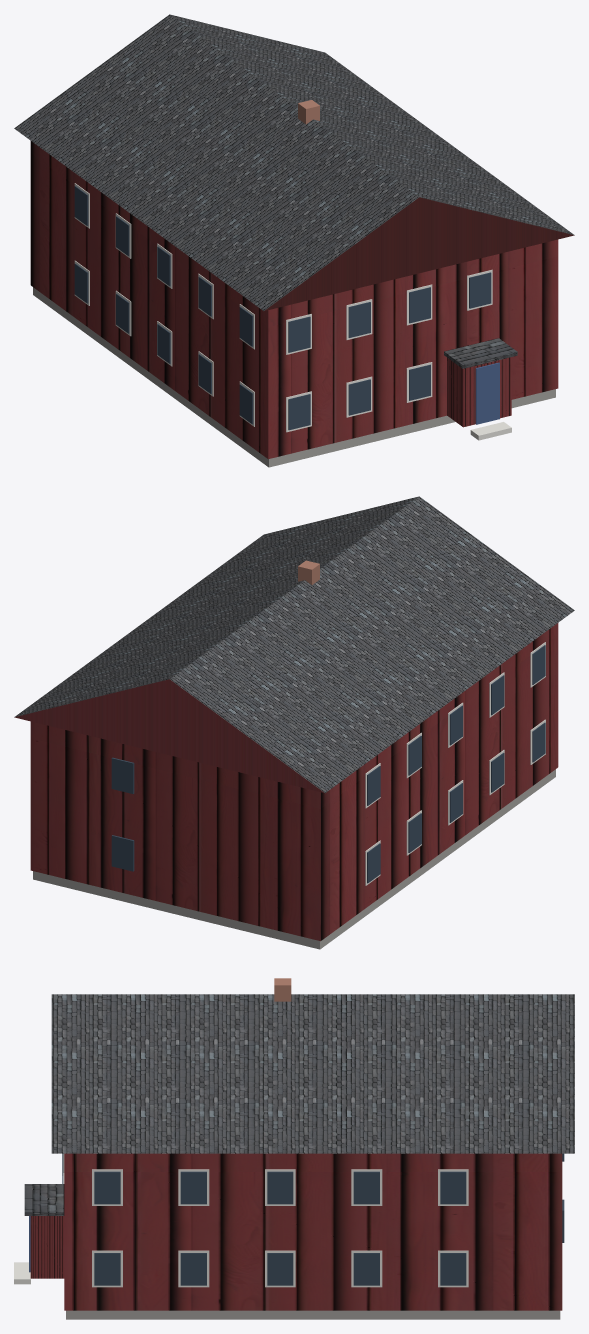
File: asset.glb
3 renders of one model, top to bottom at view 1: azimuth 30°, elevation 25°; view 2: azimuth 150°, elevation 25°; view 3: azimuth 270°, elevation 25°, orthographic. The views are drawn at different scales.
Visible parts, largest first — view 1: roof, body, gable_end, foundation, porch, door, porch_cap, win.014, win.017, win, win.015, win.001 (+2 smaller); view 2: roof, body, gable_end, foundation, win.028, win.013; view 3: roof, body, foundation, porch, porch_cap, win.023, win.024, win.025, win.026, win.027, win.008, win.009 (+3 smaller).
Part boxes in pixels (x1=…): roof: x1=14, y1=14, x2=574, y2=310; body: x1=30, y1=141, x2=558, y2=459; gable_end: x1=264, y1=197, x2=574, y2=310; foundation: x1=33, y1=287, x2=555, y2=467; porch: x1=447, y1=357, x2=511, y2=427; door: x1=475, y1=362, x2=499, y2=424; porch_cap: x1=444, y1=338, x2=517, y2=368; win.014: x1=288, y1=316, x2=310, y2=352; win.017: x1=469, y1=272, x2=491, y2=308; win: x1=288, y1=394, x2=310, y2=430; win.015: x1=348, y1=302, x2=370, y2=337; win.001: x1=348, y1=379, x2=370, y2=415; roof: x1=14, y1=496, x2=574, y2=792; body: x1=30, y1=623, x2=558, y2=941; gable_end: x1=14, y1=679, x2=324, y2=792; foundation: x1=33, y1=769, x2=555, y2=949; win.028: x1=111, y1=757, x2=134, y2=793; win.013: x1=111, y1=835, x2=134, y2=871; roof: x1=51, y1=994, x2=574, y2=1153; body: x1=64, y1=1153, x2=562, y2=1310; foundation: x1=66, y1=1310, x2=560, y2=1319; porch: x1=30, y1=1216, x2=64, y2=1278; porch_cap: x1=24, y1=1184, x2=64, y2=1215; win.023: x1=94, y1=1171, x2=120, y2=1204; win.024: x1=180, y1=1171, x2=206, y2=1204; win.025: x1=267, y1=1171, x2=293, y2=1204; win.026: x1=353, y1=1171, x2=379, y2=1204; win.027: x1=440, y1=1171, x2=466, y2=1204; win.008: x1=94, y1=1253, x2=120, y2=1285; win.009: x1=180, y1=1253, x2=206, y2=1285.
Size of the model in its own units: 12.19 by 9.45 by 18.16.
7 materials, 2 textured.
